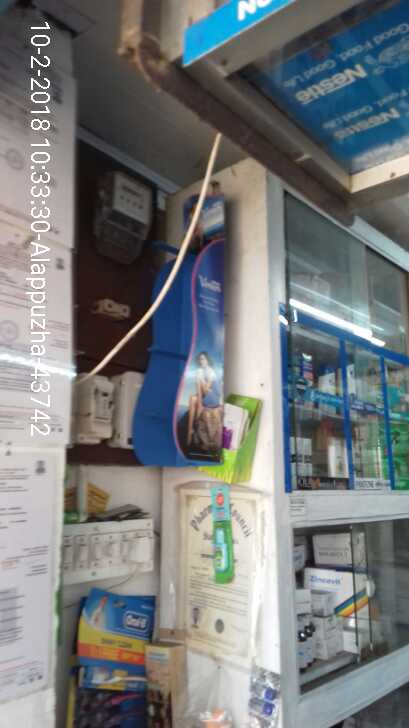reject: (122, 292, 206, 389)
